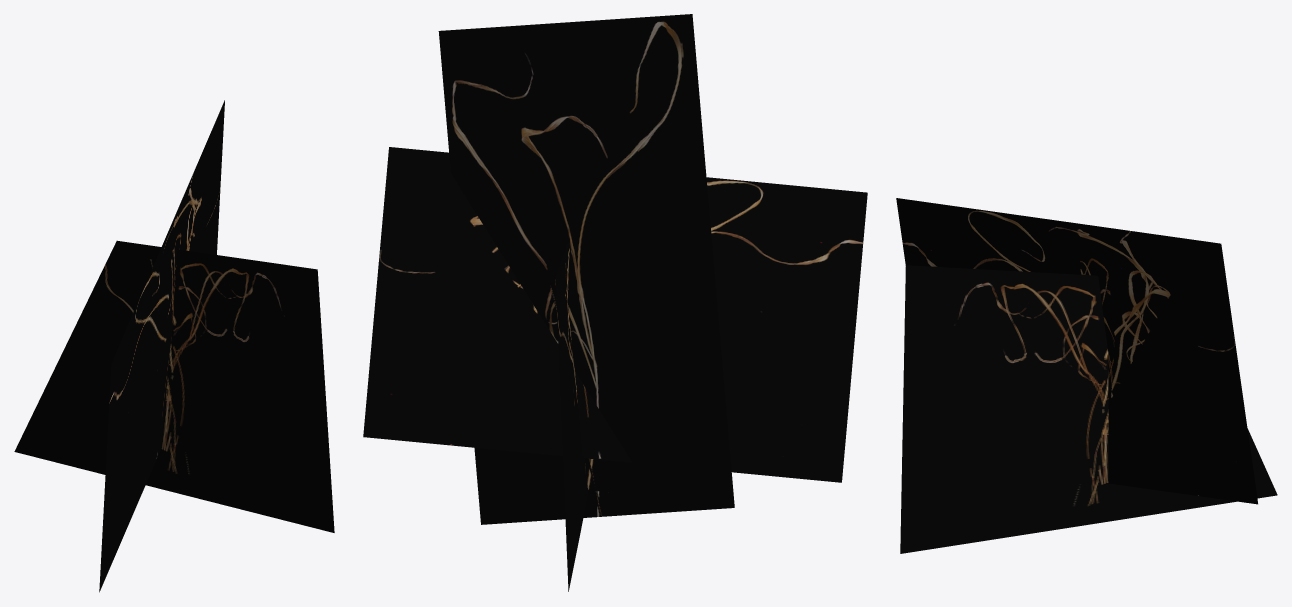
Rendered from dead_grass3.glb.
3 views of the same model, side by side, from view 1: azimuth 30°, elevation 25°; view 2: azimuth 150°, elevation 25°; view 3: azimuth 270°, elevation 25° (orthographic). The views are drawn at different scales.
Visible parts, largest first — view 1: DeadGrass3_DeadGrassATLAS_0; view 2: DeadGrass3_DeadGrassATLAS_0; view 3: DeadGrass3_DeadGrassATLAS_0.
Boxes of the visible parts, x1,y1,x2,y2 form: DeadGrass3_DeadGrassATLAS_0: [14, 100, 334, 592]; DeadGrass3_DeadGrassATLAS_0: [363, 14, 867, 591]; DeadGrass3_DeadGrassATLAS_0: [896, 198, 1277, 553].
Bounding box in the file's own units: 0.7904 × 1.3 × 0.9045.
1 material, 1 textured.
